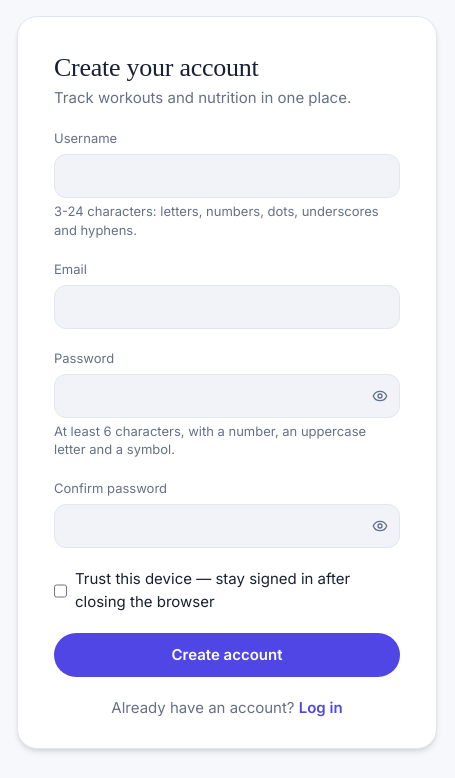
Test: RegisterScreen › shows a form-level banner for an error the backend doesn't attach to a field
The image size is (455, 778).
In the field labelled "Username": (227, 176) [54,154,400,198], type "demo-user"
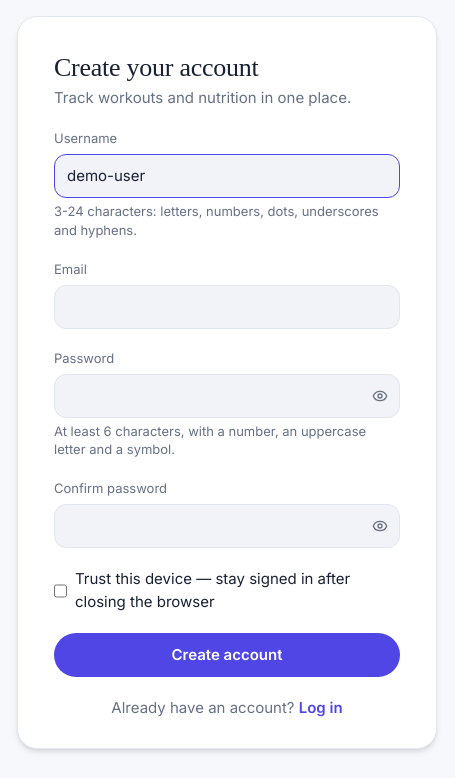
In the field labelled "Email": (227, 307) [54,285,400,329], type "demo@example.com"
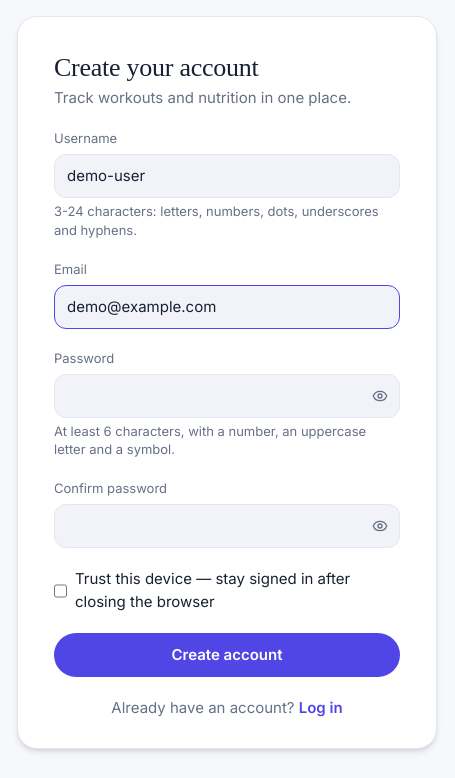
In the password field labelled "Password": (227, 396) [54,374,400,418], type "Str0ng!Pass"
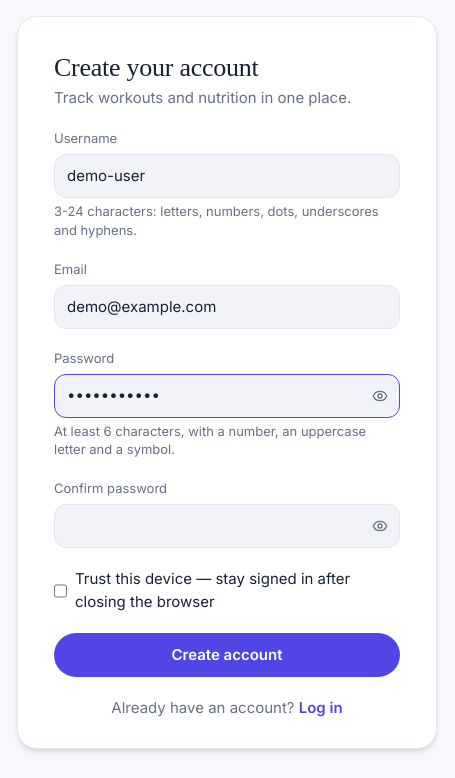
In the password field labelled "Confirm password": (227, 526) [54,504,400,548], type "Str0ng!Pass"
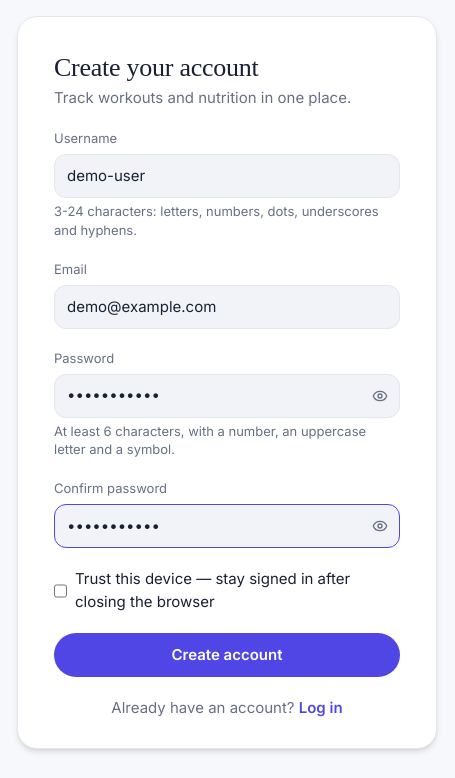
Click the button "Create account": (227, 655) [54,633,400,677]
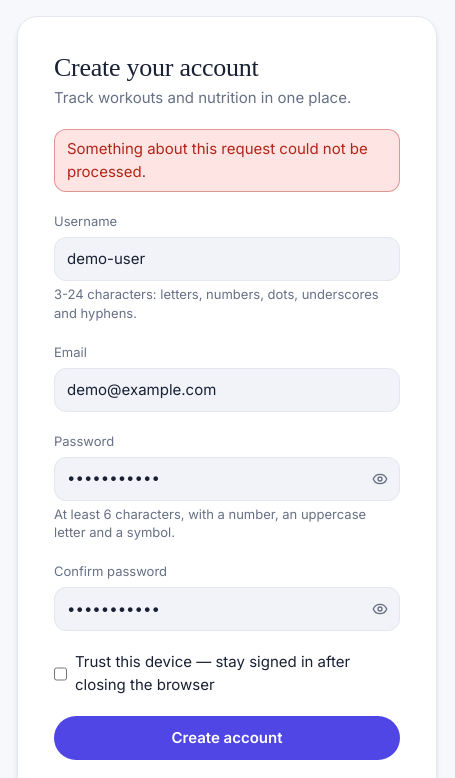
Expected: the text "Something about this request could not be processed." is shown, [54,129,400,192]
